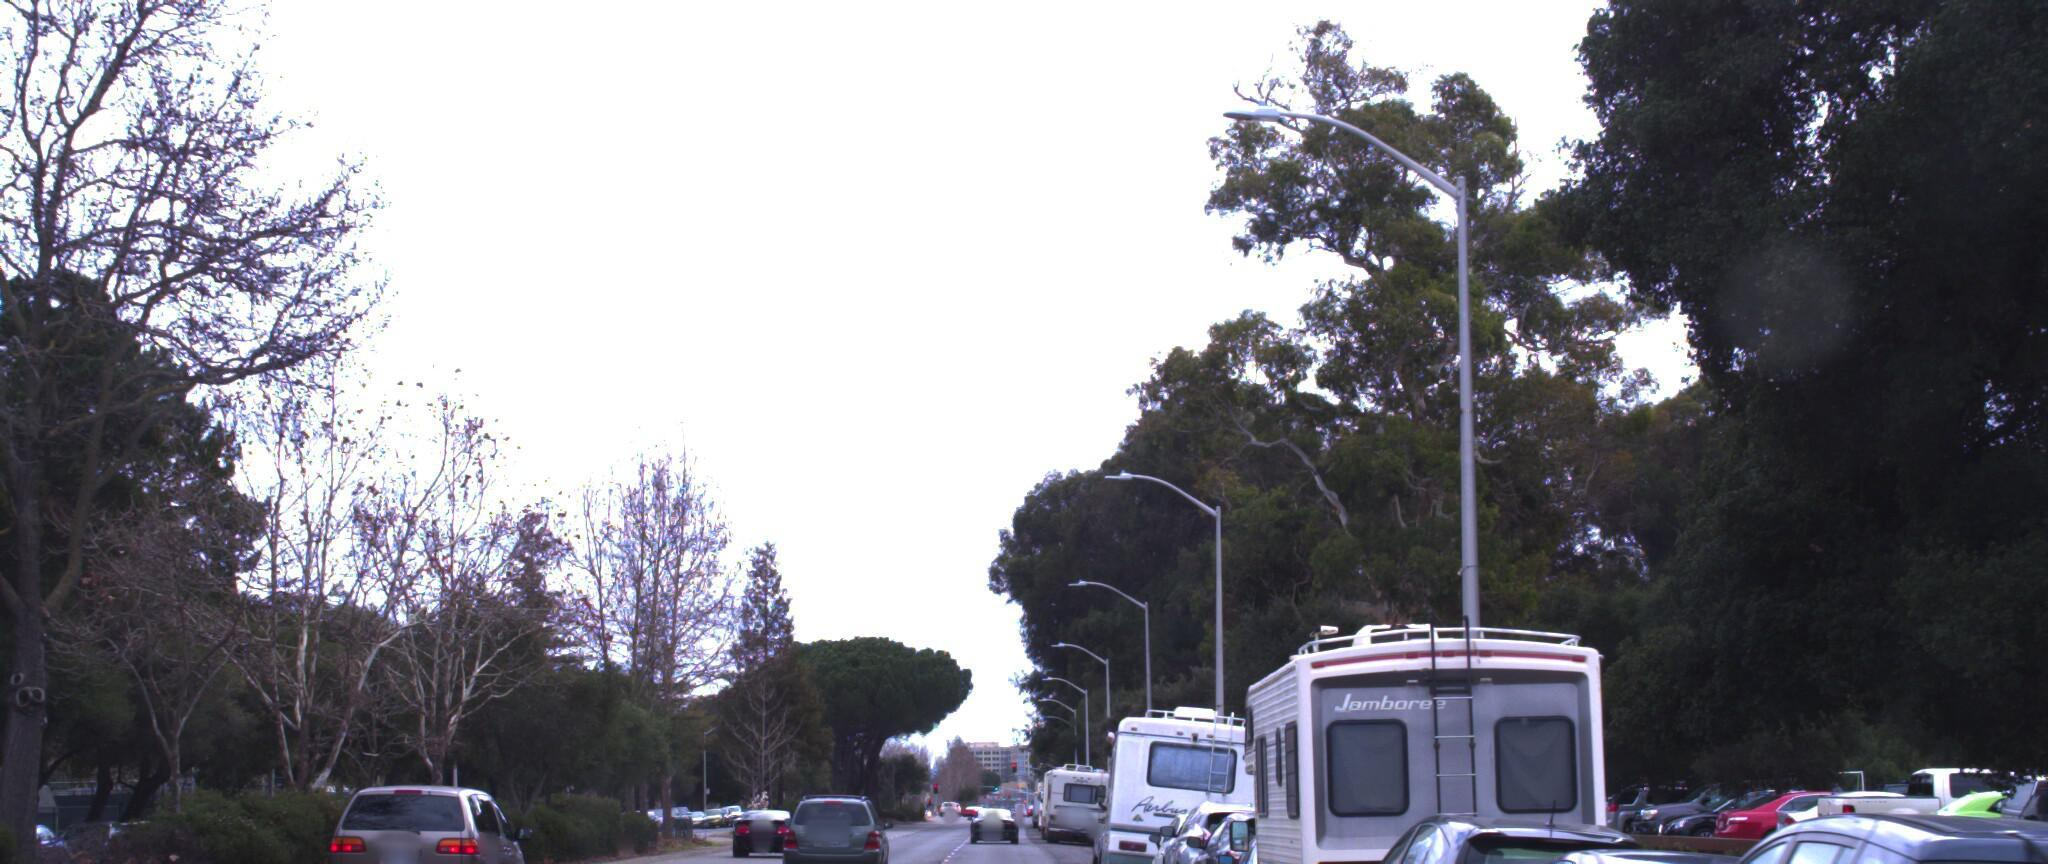car: (1533, 788, 2048, 864), (1302, 792, 1686, 864), (1408, 820, 1923, 864), (316, 767, 546, 864), (1145, 790, 1365, 864), (1856, 782, 2048, 864), (1140, 780, 1304, 864), (1192, 799, 1399, 864), (784, 765, 889, 861), (1979, 761, 2048, 864), (2000, 784, 2048, 864)
other_vehicle: (1200, 591, 1630, 864), (1088, 688, 1273, 864)
